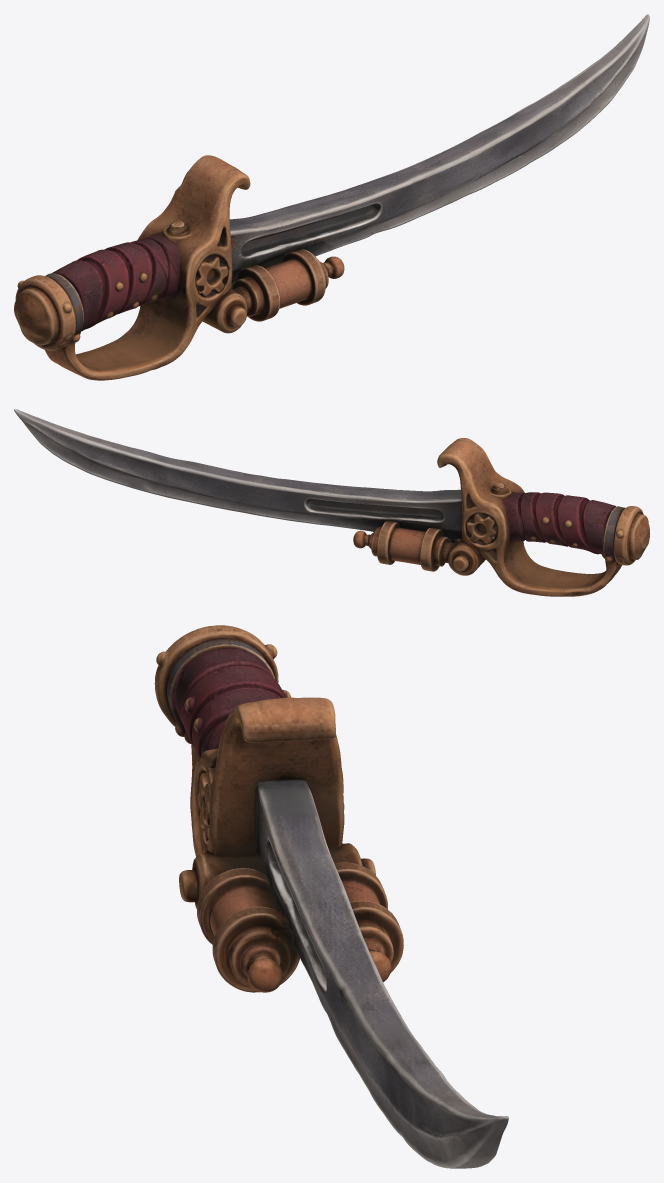
Rendered from sabre.glb.
3 views of the same model, one above another, from view 1: azimuth 30°, elevation 25°; view 2: azimuth 150°, elevation 25°; view 3: azimuth 270°, elevation 25° (orthographic). The views are drawn at different scales.
Visible parts, largest first — view 1: tripo_node_182e4fc0-3235-408d-baad-c40b995ae1a5; view 2: tripo_node_182e4fc0-3235-408d-baad-c40b995ae1a5; view 3: tripo_node_182e4fc0-3235-408d-baad-c40b995ae1a5.
Part boxes in pixels (box(x1,y1,x2,y2)): tripo_node_182e4fc0-3235-408d-baad-c40b995ae1a5: box(14, 14, 649, 380); tripo_node_182e4fc0-3235-408d-baad-c40b995ae1a5: box(14, 409, 649, 596); tripo_node_182e4fc0-3235-408d-baad-c40b995ae1a5: box(154, 625, 508, 1168).
Size of the model in its own units: 1 by 0.2187 by 0.274.
1 material, 1 textured.
